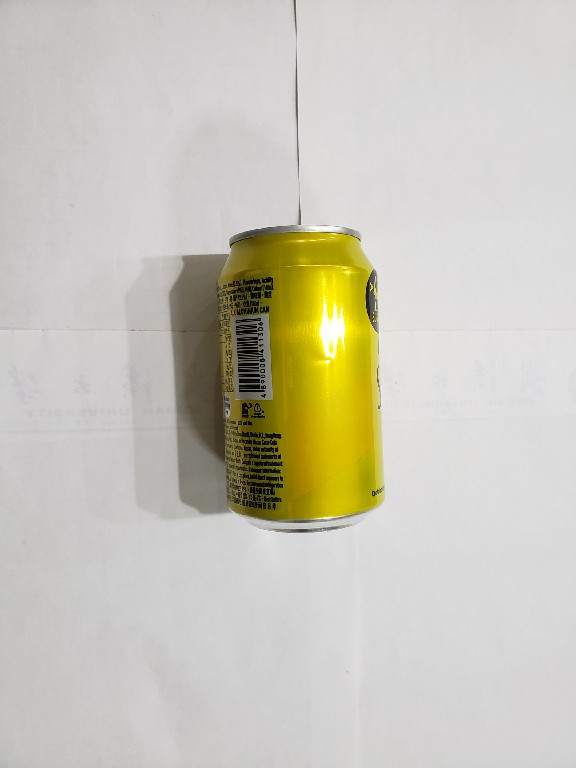can: (215, 222, 390, 539)
